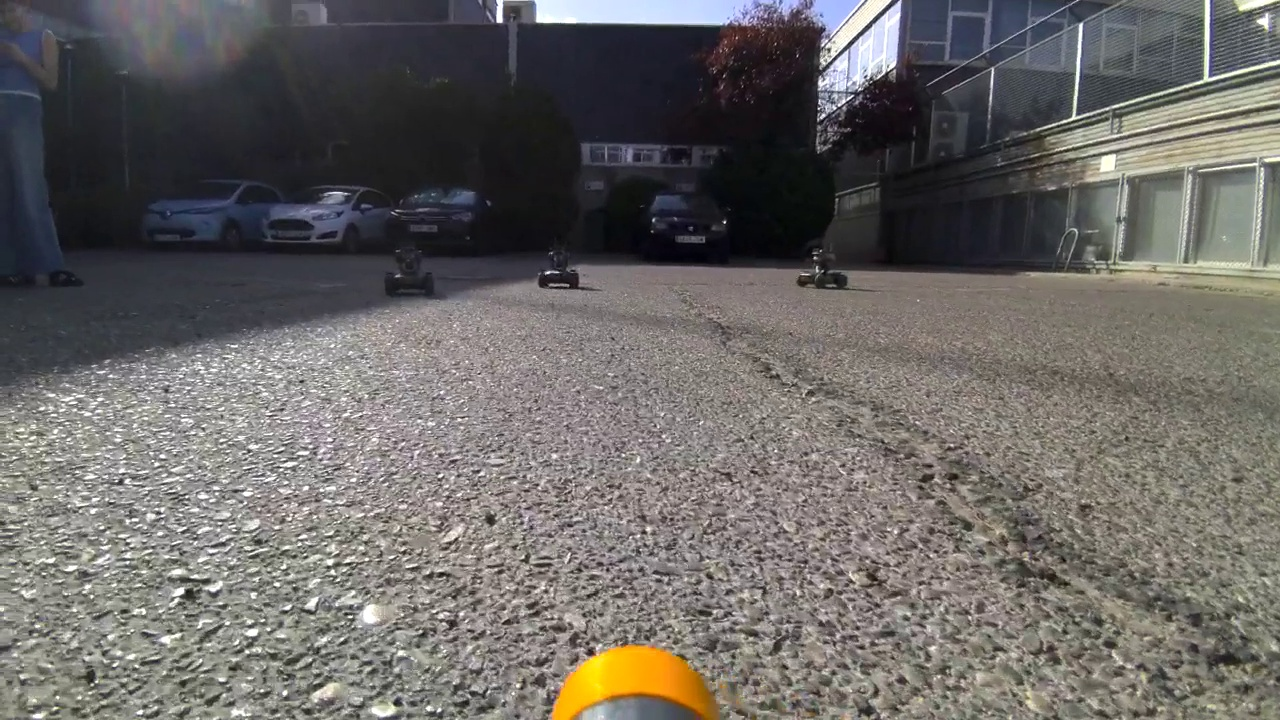robot: (380, 240, 437, 306), (794, 236, 852, 292), (536, 239, 583, 294)
